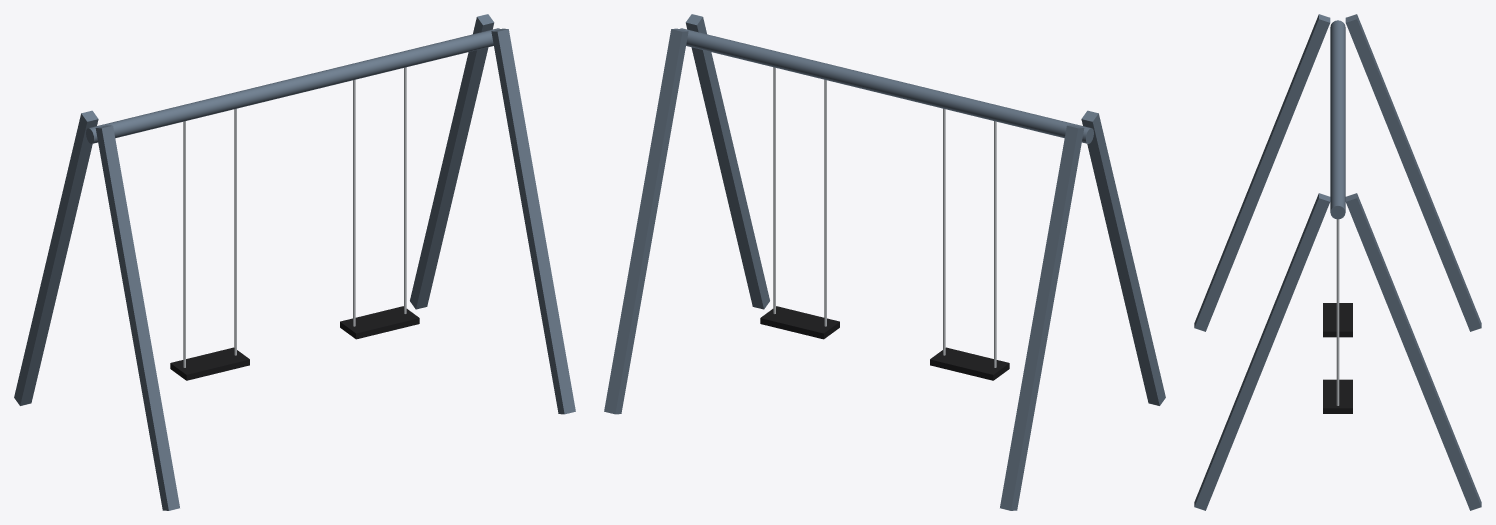
File: swingSet.glb
3 views of the same model, side by side, from view 1: azimuth 30°, elevation 25°; view 2: azimuth 150°, elevation 25°; view 3: azimuth 270°, elevation 25° (orthographic). The views are drawn at different scales.
Parts seen in each view (by area): view 1: swingSet; view 2: swingSet; view 3: swingSet.
Part boxes in pixels (x1,y1,x2,y2): swingSet: [14, 14, 575, 510]; swingSet: [604, 14, 1165, 510]; swingSet: [1194, 14, 1481, 510].
Size of the model in its own units: 2.9 by 2.28 by 1.9.
